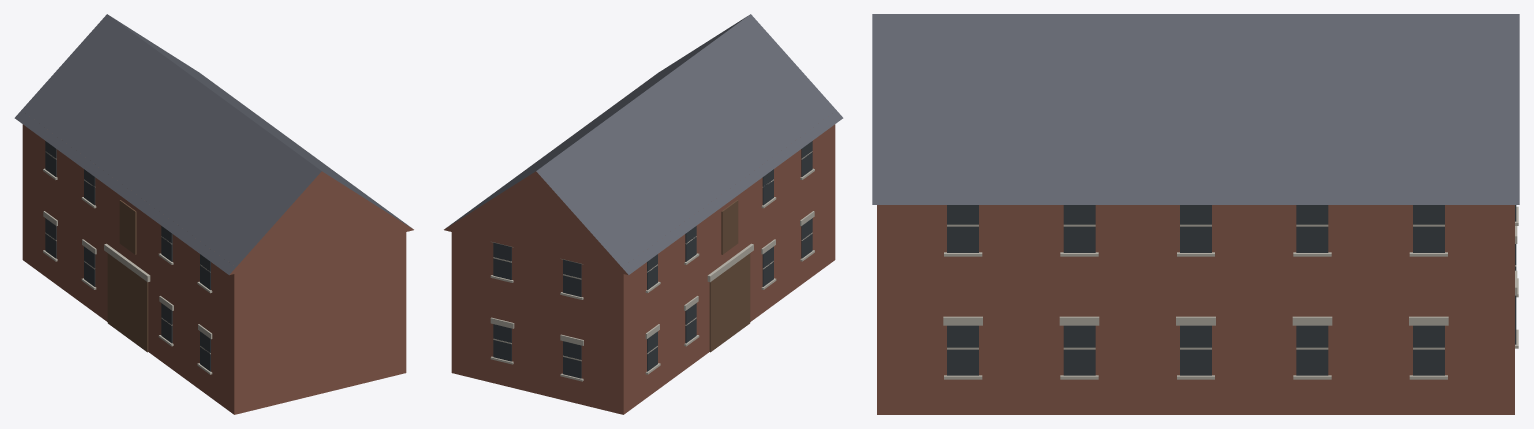
Rendered from house_1829_indiana_coach_house__draft_1904.glb.
3 views of the same model, side by side, from view 1: azimuth 30°, elevation 25°; view 2: azimuth 150°, elevation 25°; view 3: azimuth 270°, elevation 25° (orthographic). The views are drawn at different scales.
Parts seen in each view (by area): view 1: house_1829_indiana_coach_house__draft_1904; view 2: house_1829_indiana_coach_house__draft_1904; view 3: house_1829_indiana_coach_house__draft_1904.
Part boxes in pixels (x1,y1,x2,y2): house_1829_indiana_coach_house__draft_1904: (14,14,413,414); house_1829_indiana_coach_house__draft_1904: (444,14,843,414); house_1829_indiana_coach_house__draft_1904: (872,14,1519,414).
Size of the model in its own units: 8.1 by 9.35 by 16.24.
